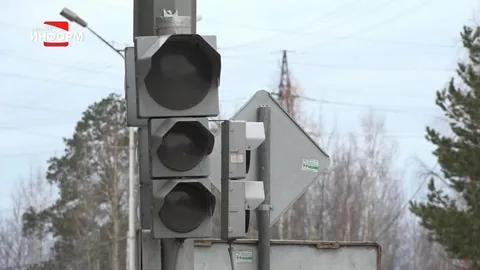off traffic light: (128, 34, 220, 237), (221, 120, 264, 237)
